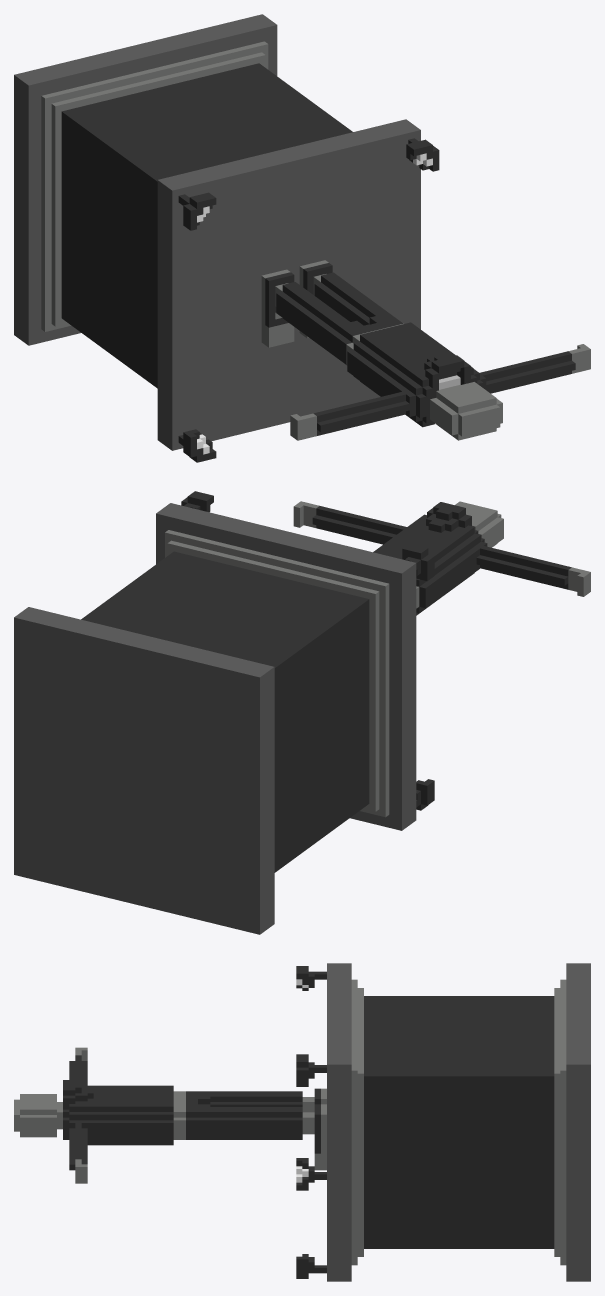
The model's file is man_statue.gltf.
3 views of the same model, one above another, from view 1: azimuth 30°, elevation 25°; view 2: azimuth 150°, elevation 25°; view 3: azimuth 270°, elevation 25° (orthographic). The views are drawn at different scales.
Visible parts, largest first — view 1: man_statue.004; view 2: man_statue.004; view 3: man_statue.004.
Part boxes in pixels (x1,y1,x2,y2): man_statue.004: (14,14,590,462); man_statue.004: (14,491,590,934); man_statue.004: (14,963,590,1281).
Bounding box in the file's own units: 4.6 × 3.9 × 9.4.
1 material, 1 textured.
